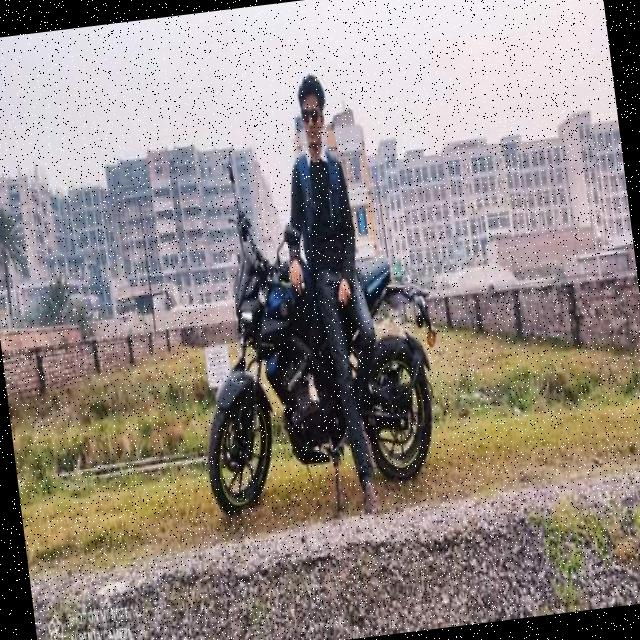No helmet: (289, 62, 336, 165)
